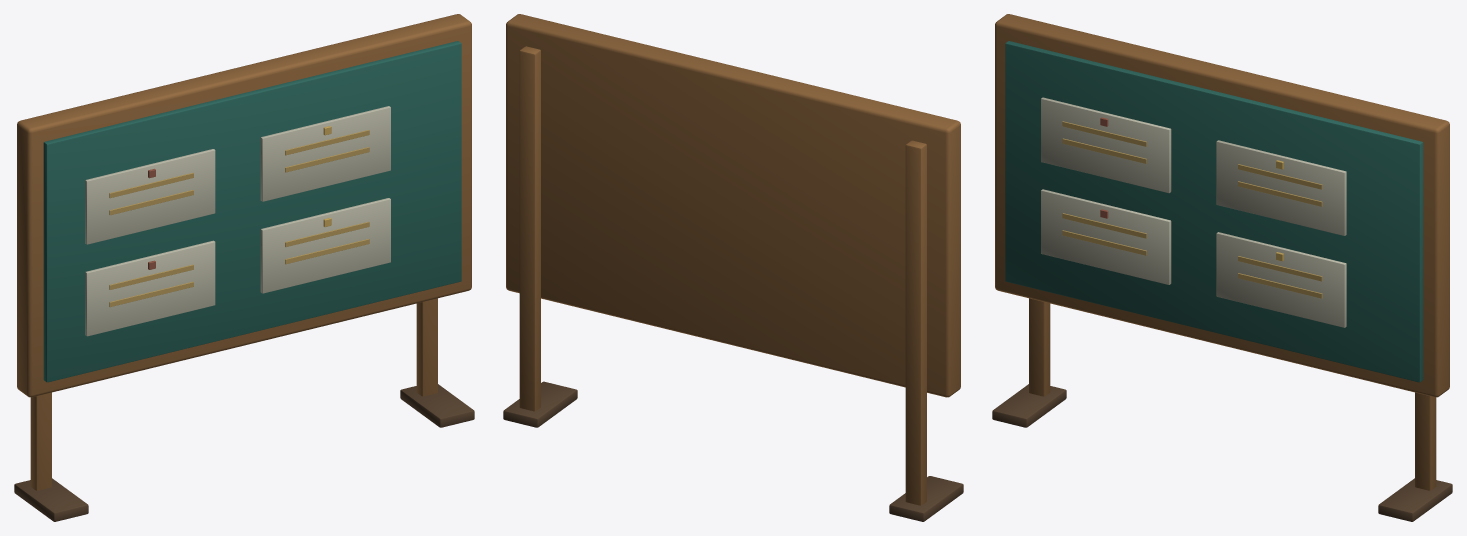
The model's file is evidence-board.glb.
The picture shows the model from 3 angles, left to right: view 1: azimuth 30°, elevation 25°; view 2: azimuth 150°, elevation 25°; view 3: azimuth 330°, elevation 25°; orthographic projection.
Visible parts, largest first — view 1: evidence-board; view 2: evidence-board; view 3: evidence-board.
Part boxes in pixels (x1,y1,x2,y2): evidence-board: (14, 14, 474, 521); evidence-board: (503, 14, 963, 521); evidence-board: (992, 14, 1452, 521).
Bounding box in the file's own units: 3.8 × 3.15 × 0.6.
